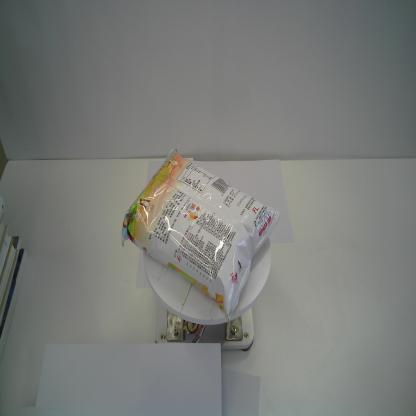Puffed Food: (121, 148, 281, 321)
